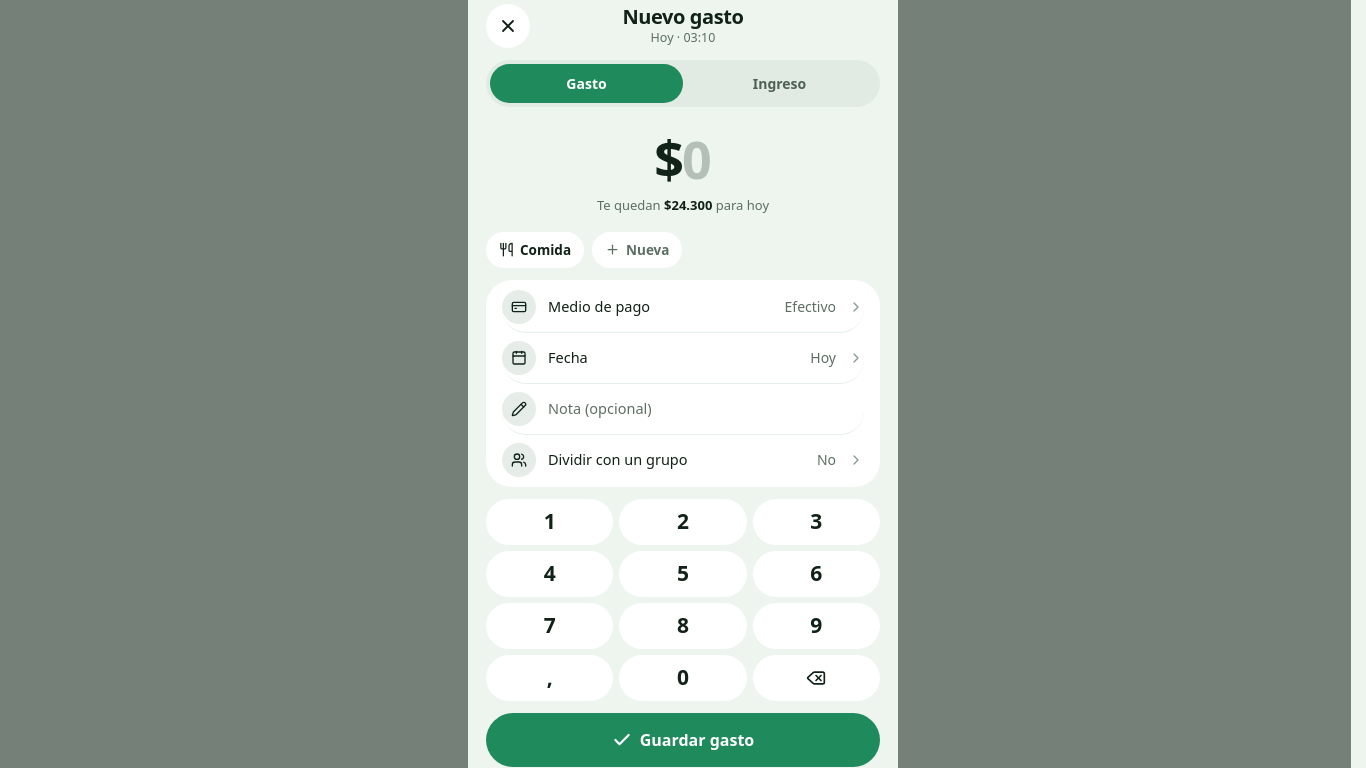
Test: MovementSheet: screen 19 (manual load) › shows "Te quedan $X para hoy" live and omits it without data
Expected: the text "Te quedan $24.300 para hoy" is shown, [597,196,769,216]
Type "4800" into the field named "Monto" at (697,158), box [682,123,712,194]
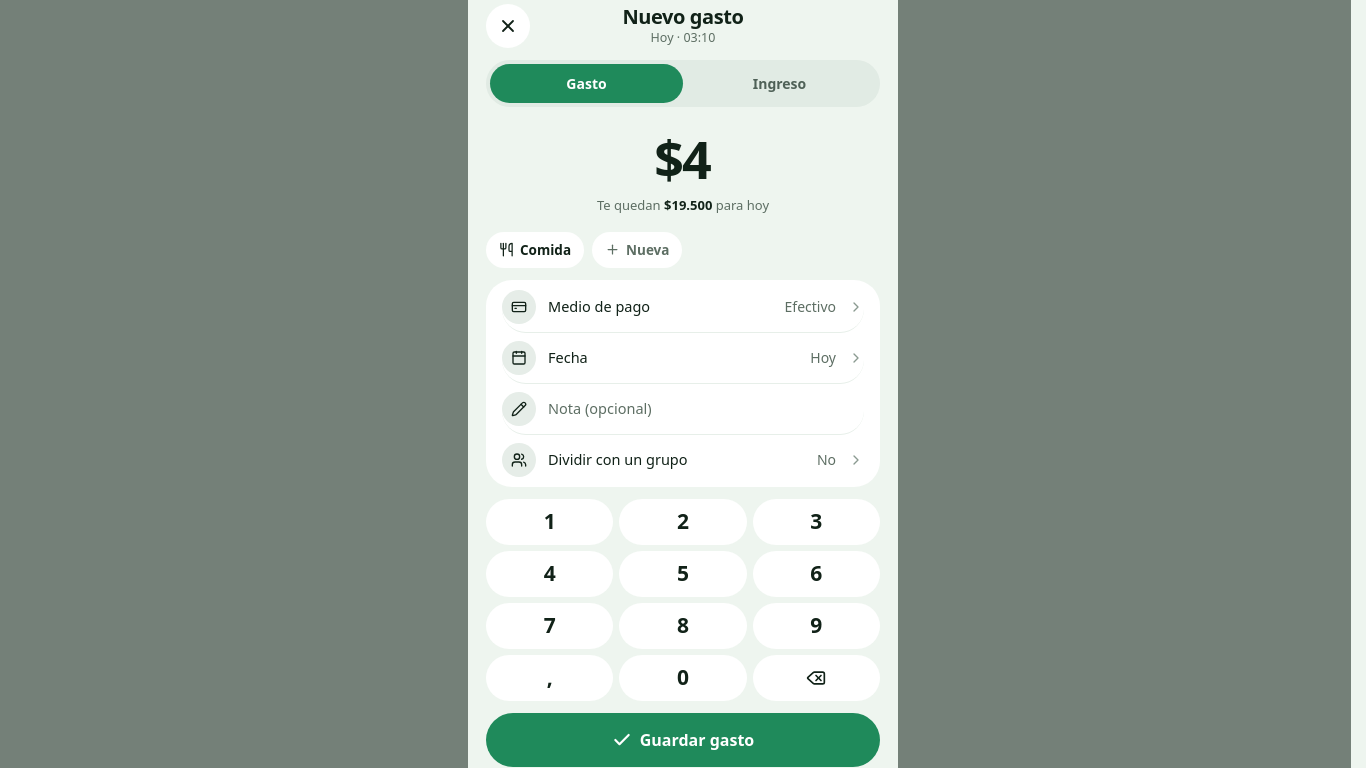
Now the text "Te quedan $19.500 para hoy" is shown, box [597,196,769,216]
Not for an income.
Click the button "Ingreso" at (780,84), box [683,64,876,103]
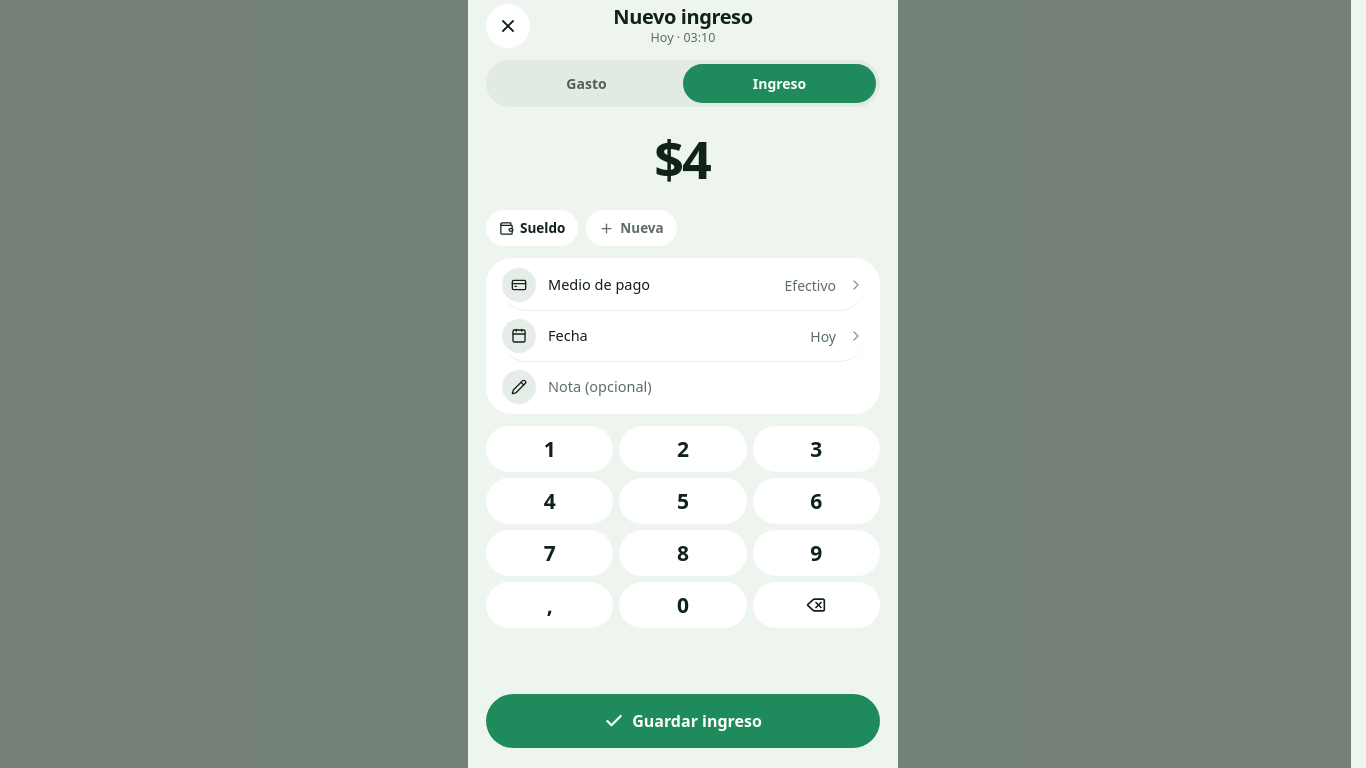
Now the text "Te quedan" is gone
